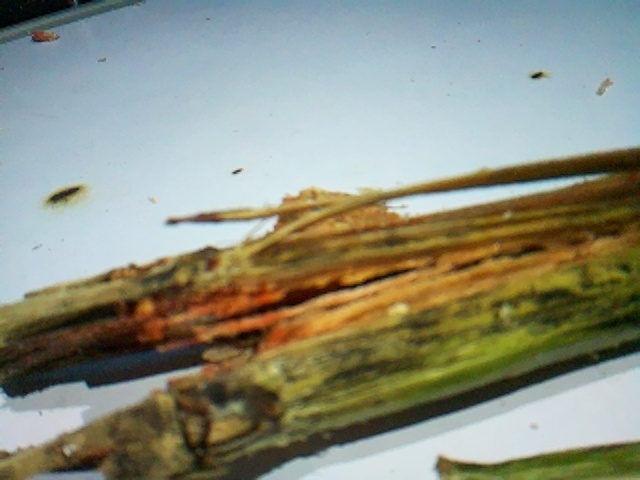Red-Rot: (24, 180, 632, 445)
